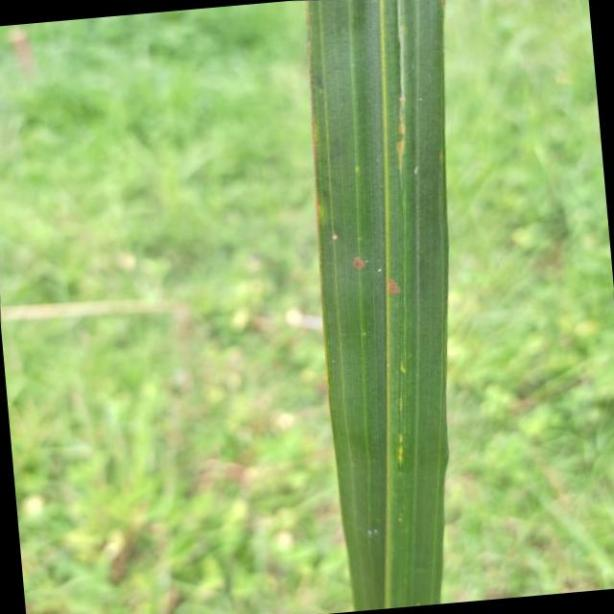Boron: (308, 0, 451, 614)
